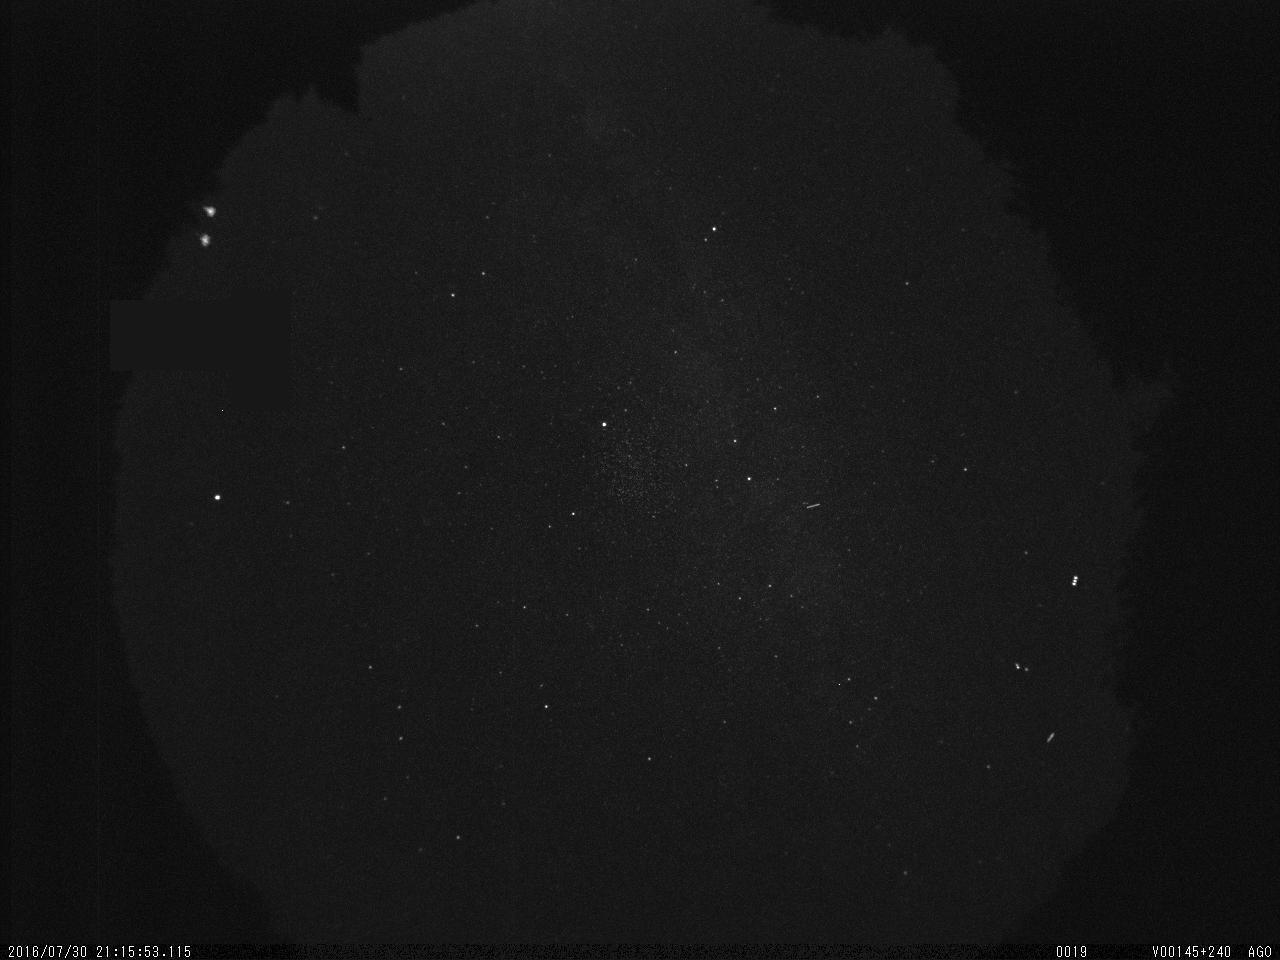satelite: (1065, 571, 1083, 594), (803, 499, 826, 514)
